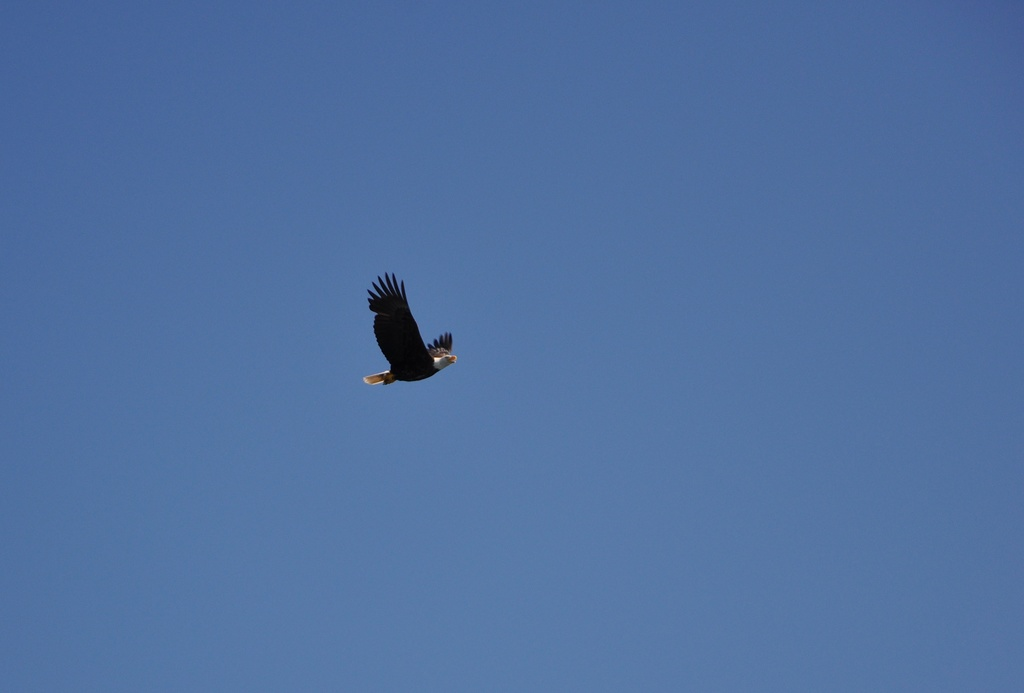person: (362, 270, 460, 387)
